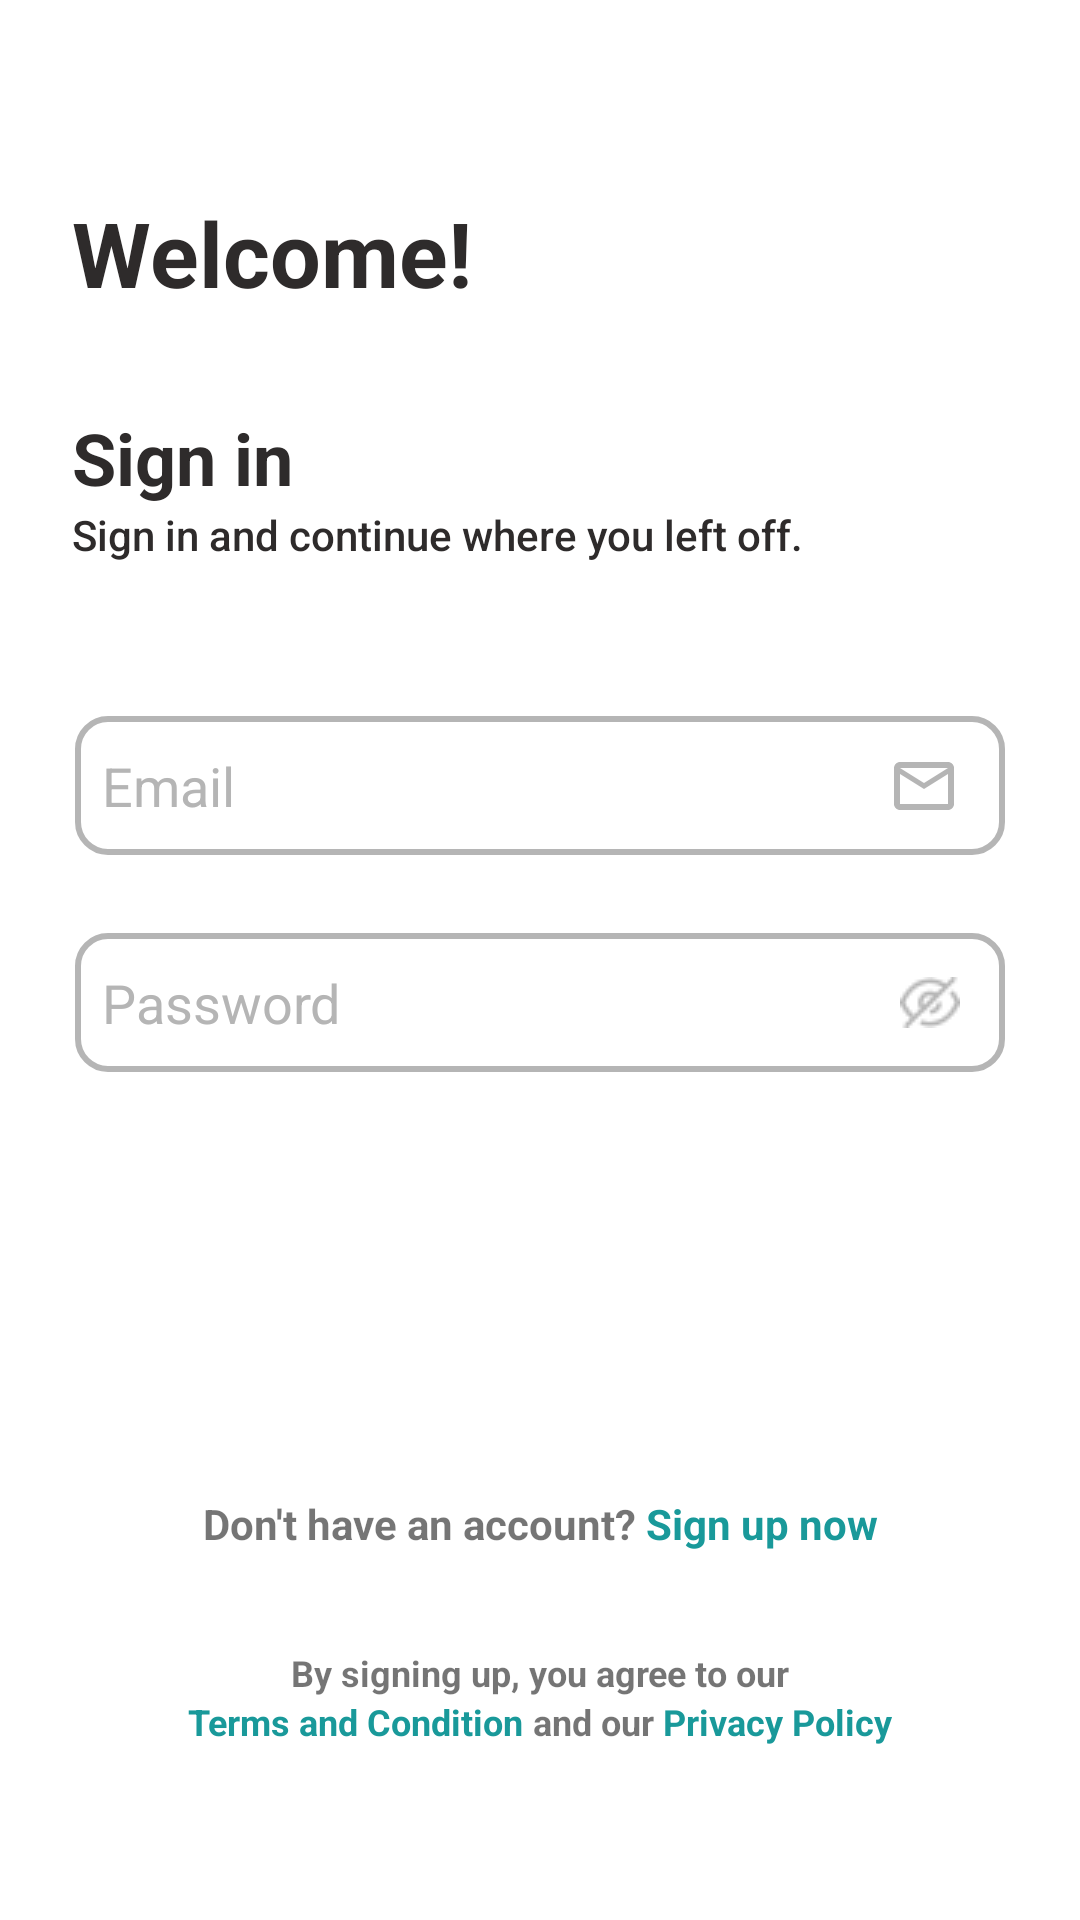

Icons on this 1080px x 1920px Android screen, each with the point to tap as [x,y]:
hide: [930,1002]
